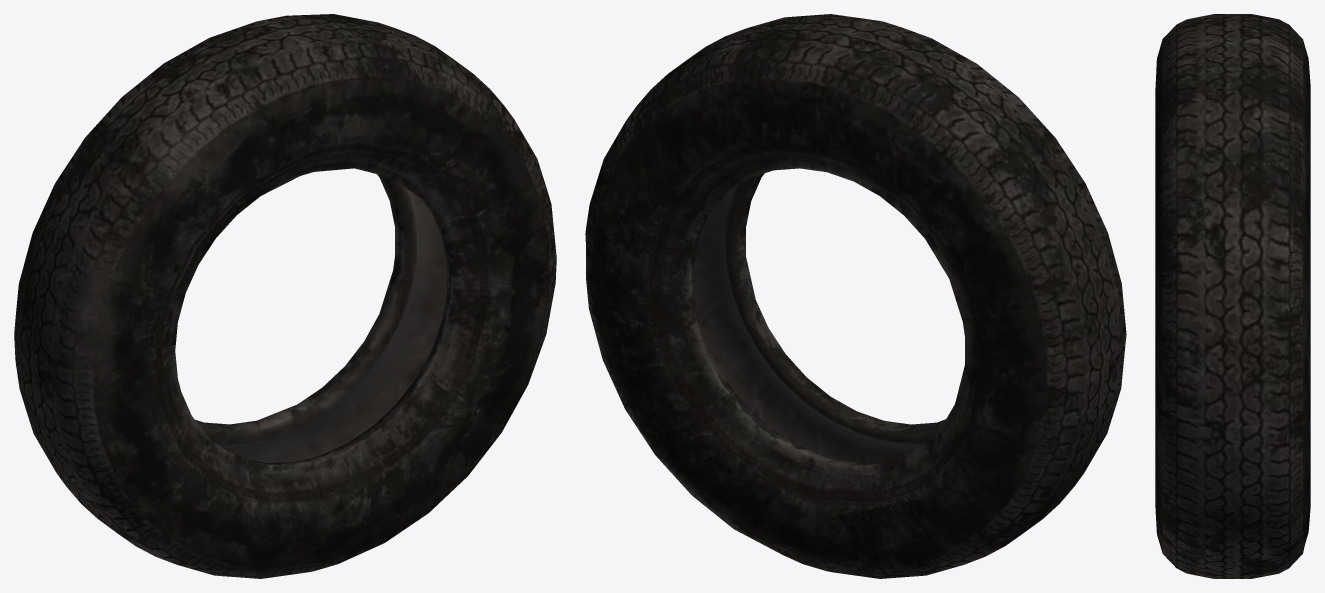
Rendered from old_tyre.glb.
The picture shows the model from 3 angles, left to right: view 1: azimuth 30°, elevation 25°; view 2: azimuth 150°, elevation 25°; view 3: azimuth 270°, elevation 25°; orthographic projection. The views are drawn at different scales.
Visible parts, largest first — view 1: old_tyre; view 2: old_tyre; view 3: old_tyre.
Boxes of the visible parts, left/top/right/bottom form: old_tyre: left=14, top=14, right=556, bottom=578; old_tyre: left=585, top=14, right=1126, bottom=578; old_tyre: left=1155, top=14, right=1310, bottom=578.
Size of the model in its own units: 0.6 by 0.6 by 0.165.
Materials: 1 (1 with a texture image).
